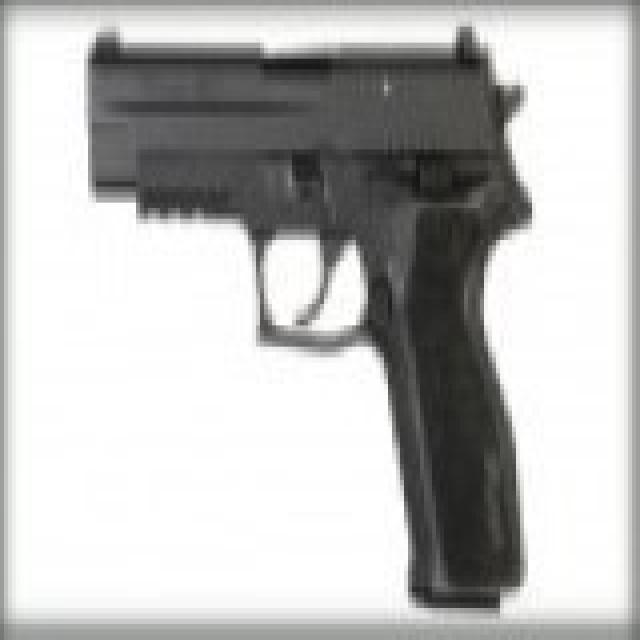Gun: (67, 24, 534, 599)
